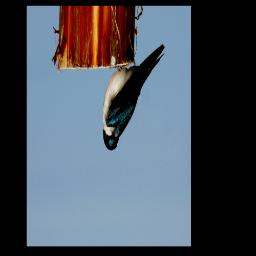Swallow: (102, 42, 166, 152)
